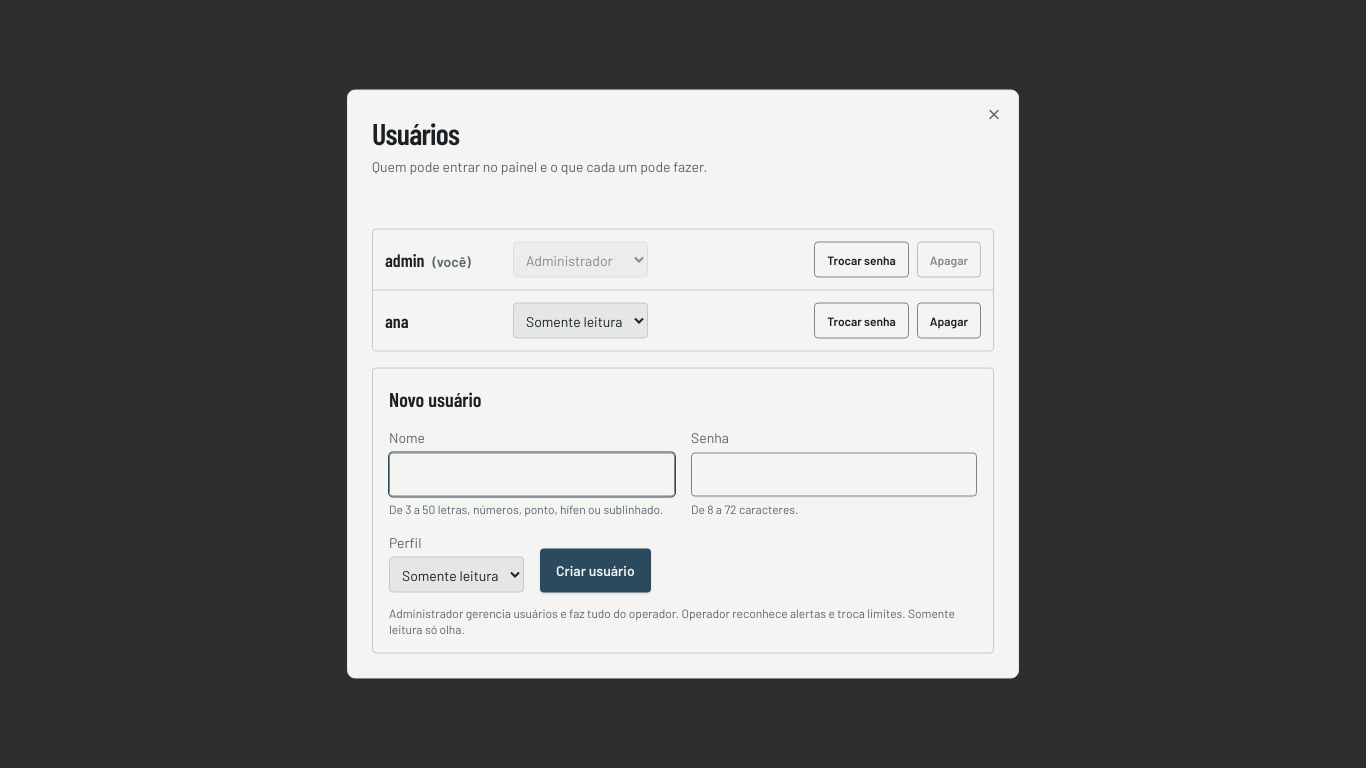
Test case: GerenciarUsuarios › troca o perfil de um usuário
Expected: the list is shown, [372,228,994,352]
Select "Operador" in the dropdown named "Perfil de ana" at (580, 320), box [513,302,648,338]
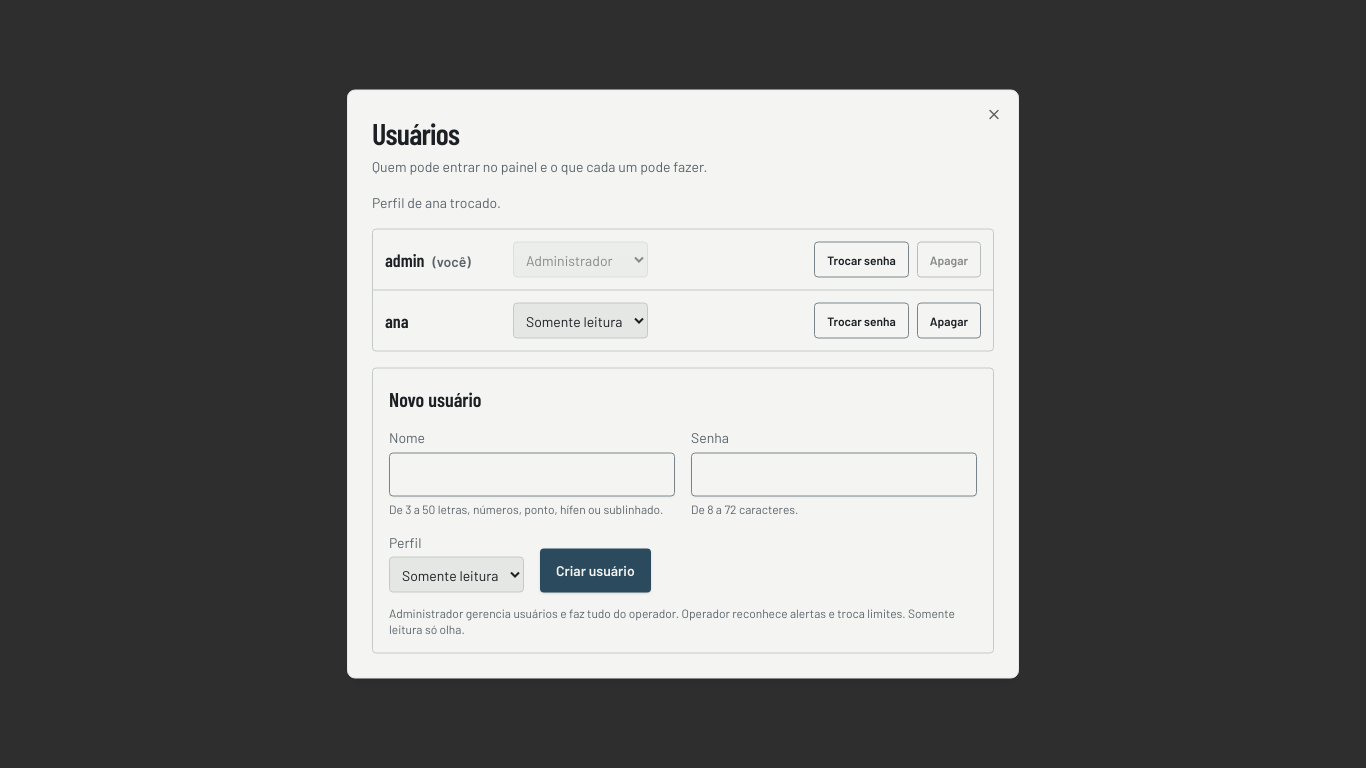
Expected: the message reads "Perfil de ana trocado.", [372,194,501,210]
